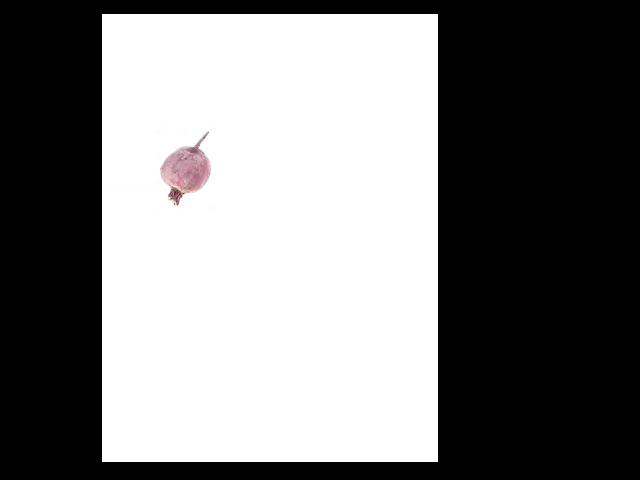beet: (161, 132, 211, 205)
